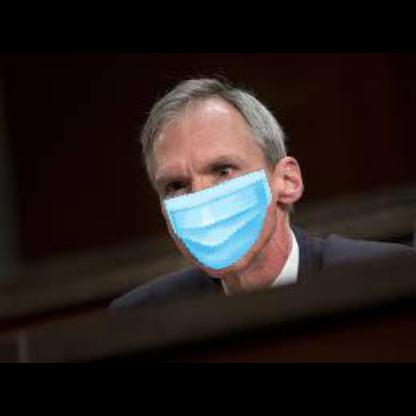Surgical Mask: (150, 106, 286, 272)
